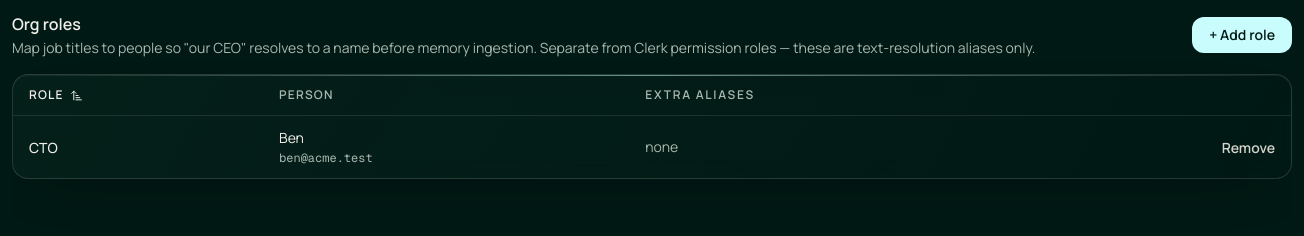
org roles: Remove › tells an admin who may only read the org root that removing needs write access, from the route's real answer
Click the button "remove".
click(1248, 148)  # box top-left (1222, 138), bottom-right (1275, 158)
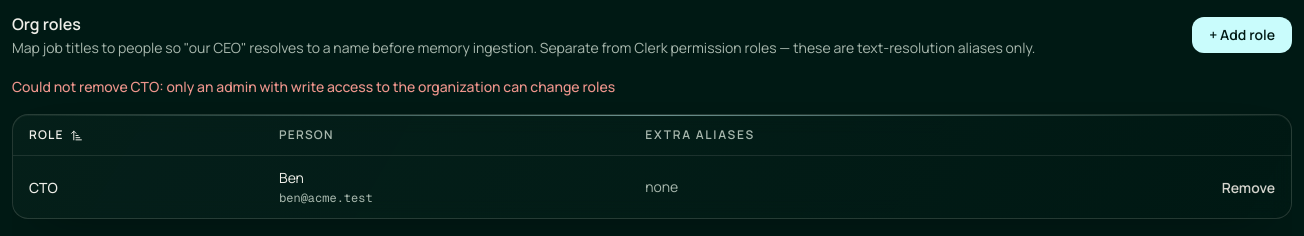
Expected: the text "CTO" is shown, top-left (29, 178), bottom-right (58, 197)
Expected: the message shows "Could not remove CTO: only an admin with write access to the organization can change roles", top-left (12, 77), bottom-right (615, 96)
